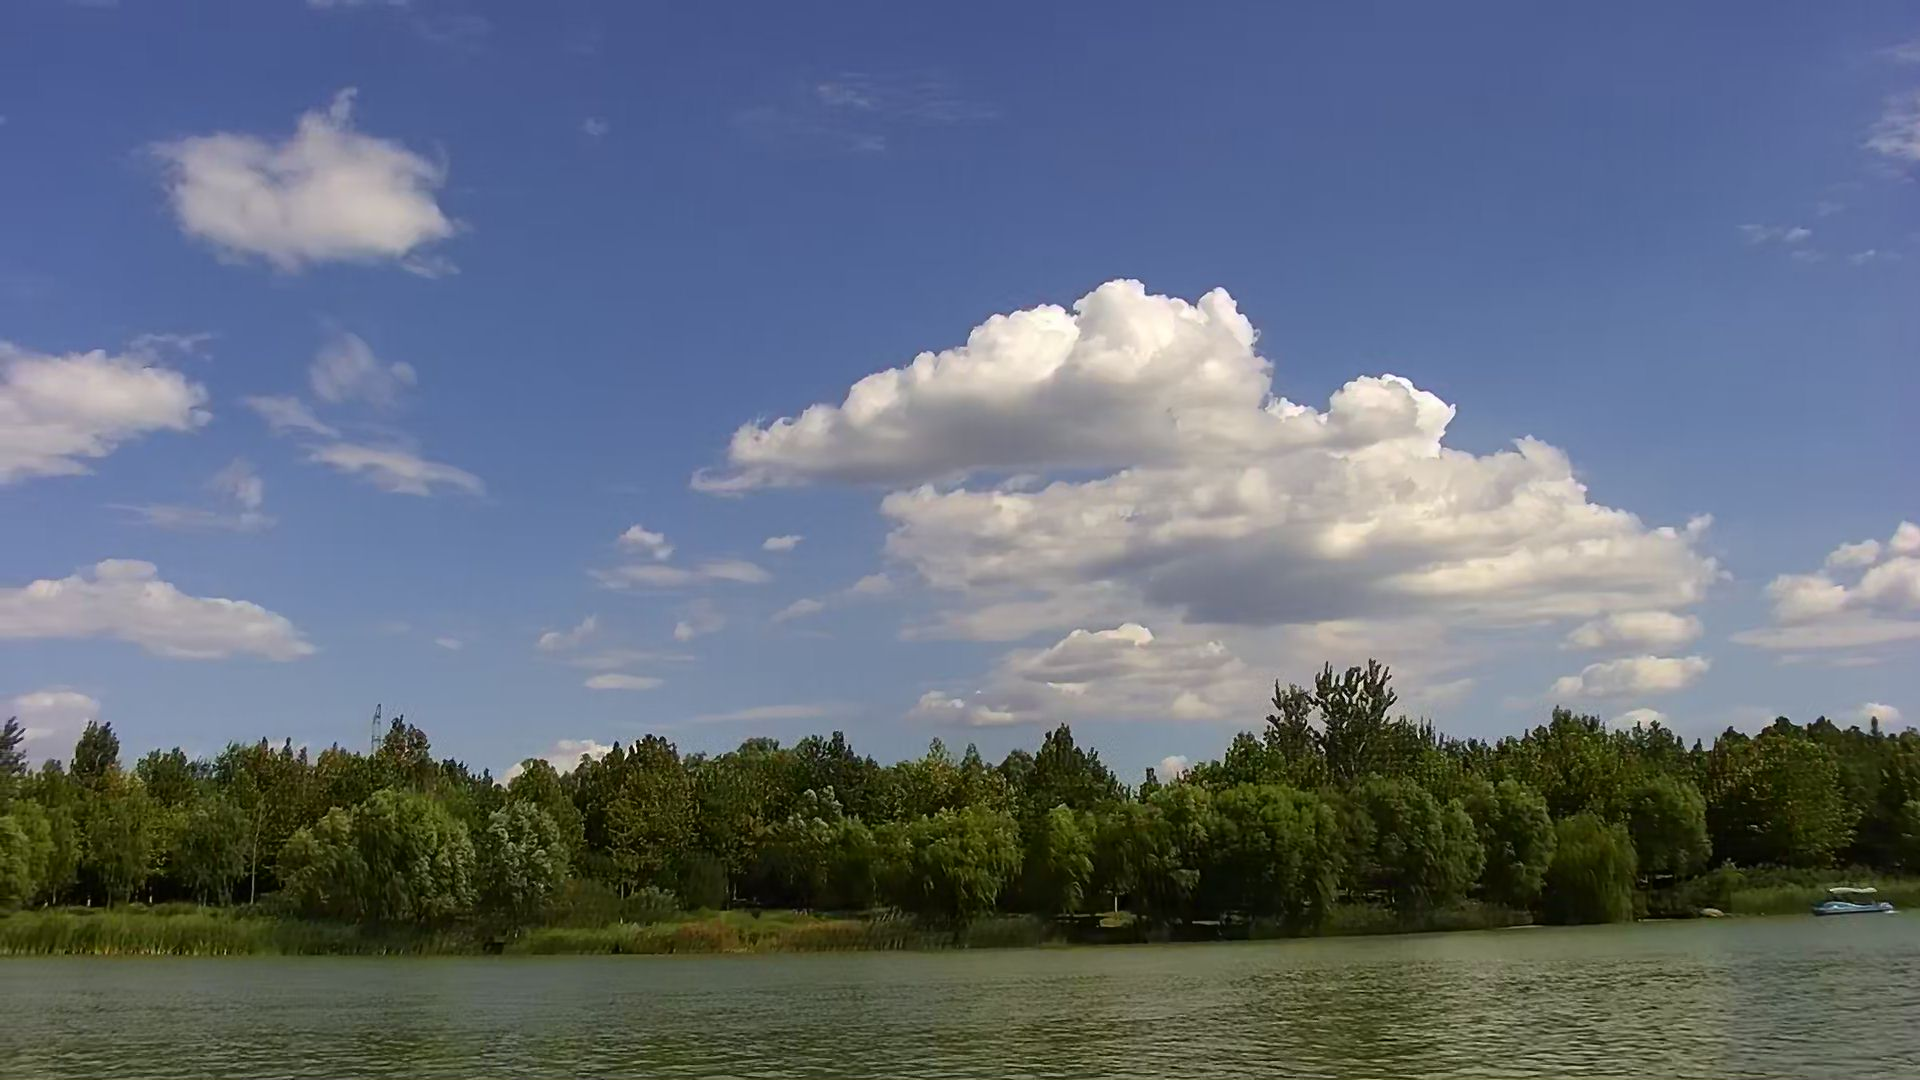boat: (1804, 884, 1902, 922)
